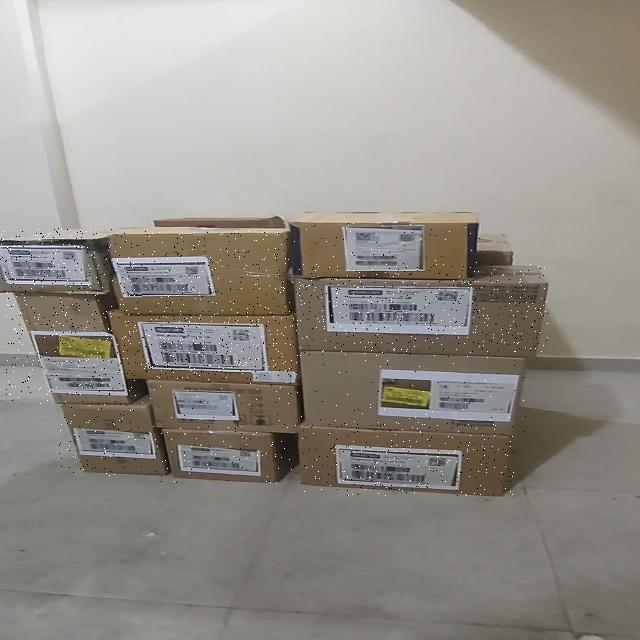BoxFace: (288, 264, 548, 356), (297, 350, 527, 434), (295, 422, 514, 496), (6, 290, 142, 404), (106, 232, 289, 316), (106, 308, 298, 384), (289, 220, 481, 280), (58, 396, 169, 476), (146, 379, 300, 433), (160, 427, 292, 483), (0, 228, 112, 294)
